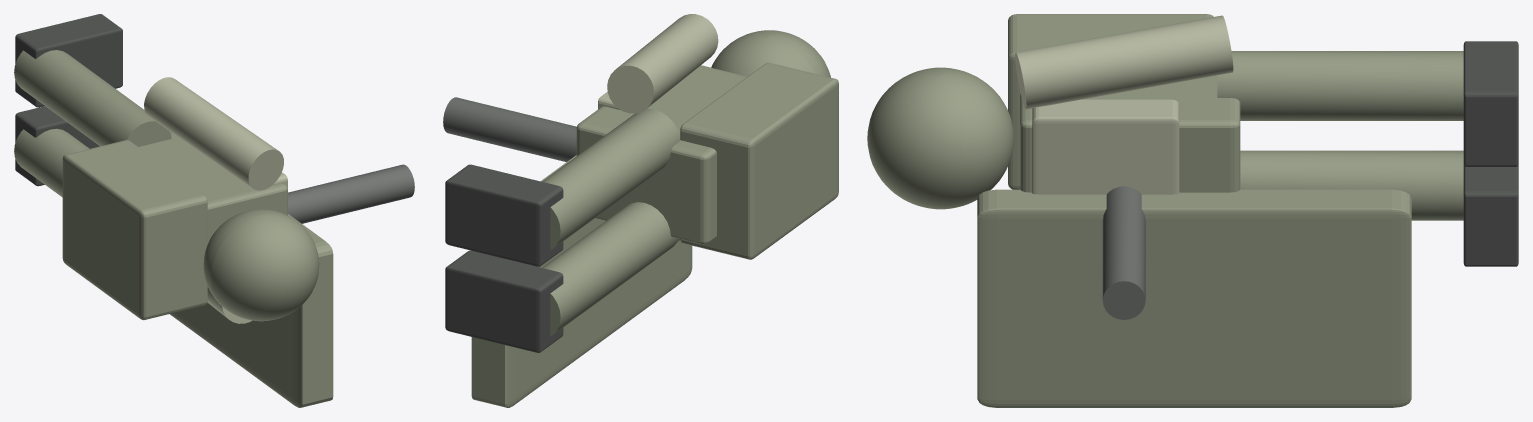
File: v-u10-vanguard-operator-lod1.glb
The picture shows the model from 3 angles, left to right: view 1: azimuth 30°, elevation 25°; view 2: azimuth 150°, elevation 25°; view 3: azimuth 270°, elevation 25°; orthographic projection. The views are drawn at different scales.
Parts seen in each view (by area): view 1: soldier_0_backpack, ballistic_shield, soldier_0_helmet, soldier_0_leg_1, soldier_0_arm_1, soldier_0_torso, soldier_0_boot_1, soldier_0_rifle, soldier_0_leg_-1, soldier_0_boot_-1, soldier_0_arm_-1; view 2: soldier_0_backpack, ballistic_shield, soldier_0_torso, soldier_0_boot_1, soldier_0_boot_-1, soldier_0_leg_1, soldier_0_leg_-1, soldier_0_arm_1, soldier_0_rifle, soldier_0_helmet; view 3: ballistic_shield, soldier_0_leg_1, soldier_0_helmet, soldier_0_chest, soldier_0_arm_1, soldier_0_leg_-1, soldier_0_torso, soldier_0_boot_1, soldier_0_backpack, soldier_0_boot_-1, soldier_0_rifle.
Boxes of the visible parts, <box> form: soldier_0_backpack: <box>62,140,207,320</box>; ballistic_shield: <box>169,131,333,407</box>; soldier_0_helmet: <box>203,209,319,321</box>; soldier_0_leg_1: <box>14,50,171,146</box>; soldier_0_arm_1: <box>144,77,283,190</box>; soldier_0_torso: <box>138,132,287,286</box>; soldier_0_boot_1: <box>15,14,122,107</box>; soldier_0_rifle: <box>288,164,414,223</box>; soldier_0_leg_-1: <box>14,128,89,197</box>; soldier_0_boot_-1: <box>15,106,99,186</box>; soldier_0_arm_-1: <box>207,287,251,323</box>; soldier_0_backpack: <box>680,62,838,259</box>; ballistic_shield: <box>471,155,692,407</box>; soldier_0_torso: <box>576,65,747,244</box>; soldier_0_boot_1: <box>445,164,563,266</box>; soldier_0_boot_-1: <box>445,250,563,352</box>; soldier_0_leg_1: <box>542,108,680,249</box>; soldier_0_leg_-1: <box>542,202,678,336</box>; soldier_0_arm_1: <box>607,14,718,113</box>; soldier_0_rifle: <box>443,97,576,161</box>; soldier_0_helmet: <box>711,30,830,77</box>; ballistic_shield: <box>977,189,1411,407</box>; soldier_0_leg_1: <box>1217,51,1463,120</box>; soldier_0_helmet: <box>867,67,1013,209</box>; soldier_0_chest: <box>1032,99,1179,194</box>; soldier_0_arm_1: <box>1015,15,1233,109</box>; soldier_0_leg_-1: <box>1240,150,1463,220</box>; soldier_0_torso: <box>1020,75,1240,192</box>; soldier_0_boot_1: <box>1463,41,1518,166</box>; soldier_0_backpack: <box>1008,14,1213,189</box>; soldier_0_boot_-1: <box>1463,164,1518,266</box>; soldier_0_rifle: <box>1102,186,1145,319</box>.
Size of what is drawn, in the model's own units: 1.48 by 1.25 by 2.13.
